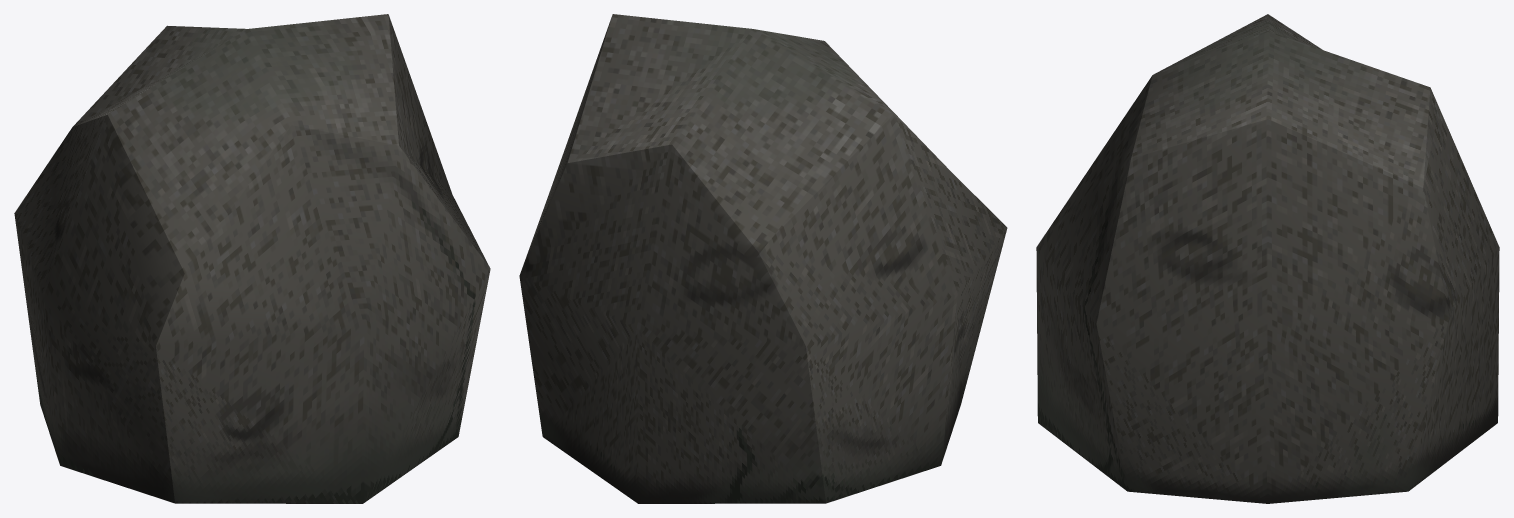
File: rock4.fbx
The picture shows the model from 3 angles, left to right: view 1: azimuth 30°, elevation 25°; view 2: azimuth 150°, elevation 25°; view 3: azimuth 270°, elevation 25°; orthographic projection.
Visible parts, largest first — view 1: rock4; view 2: rock4; view 3: rock4.
Boxes of the visible parts, <box> form: rock4: <box>14,14,490,503</box>; rock4: <box>519,14,1007,503</box>; rock4: <box>1036,14,1499,503</box>.
Bounding box in the file's own units: 4.7 × 4.29 × 4.6.
